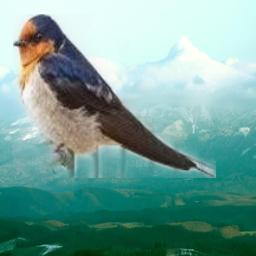Swallow: (13, 14, 216, 178)
